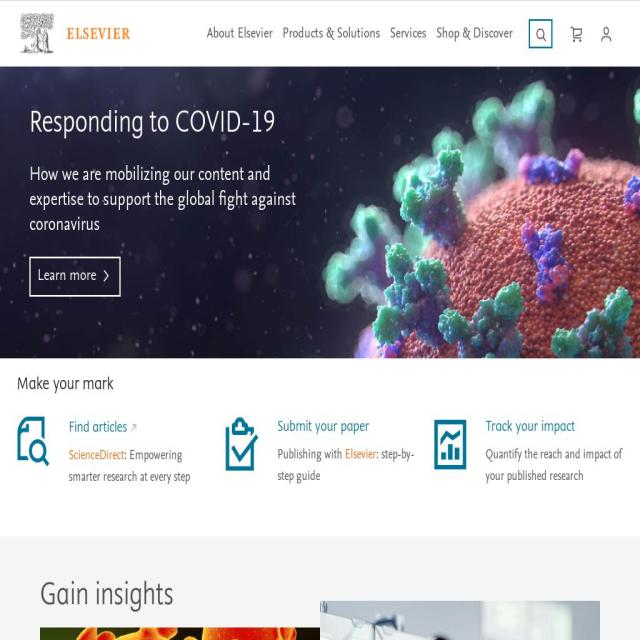button: (320, 600, 600, 640), (20, 14, 131, 54), (40, 626, 320, 640), (30, 256, 120, 296), (282, 23, 380, 44), (437, 23, 512, 44), (207, 23, 272, 44), (592, 14, 620, 53), (390, 23, 426, 44), (225, 432, 259, 452), (433, 432, 467, 452), (17, 430, 50, 450)
heading: (17, 371, 623, 397), (29, 107, 310, 140), (40, 589, 600, 602), (277, 417, 369, 435), (485, 417, 575, 435), (69, 418, 142, 436)
image: (320, 600, 600, 640), (40, 626, 320, 640), (433, 414, 467, 474), (225, 414, 259, 473), (17, 414, 51, 468), (20, 14, 54, 54), (67, 28, 131, 39), (598, 25, 614, 43)
text: (29, 161, 310, 237), (277, 444, 414, 485), (485, 444, 622, 485), (68, 445, 190, 486), (277, 444, 345, 464), (69, 445, 125, 464), (344, 444, 376, 464)
